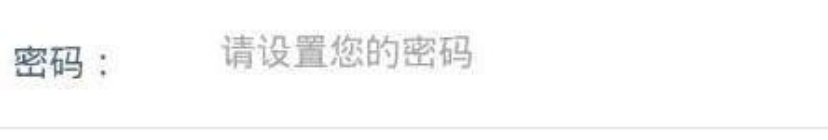EditText: (1, 1, 827, 139)
